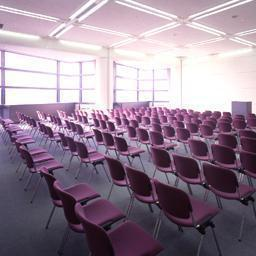Ventana: (2, 53, 99, 104), (114, 63, 171, 101)
